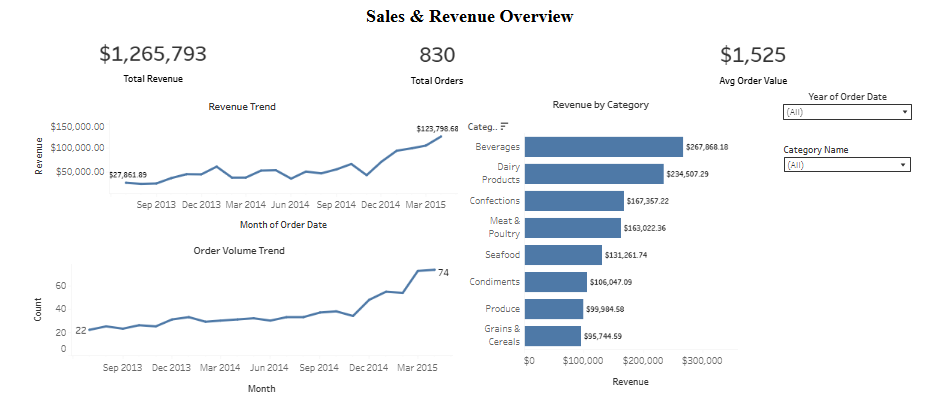

The page's visual inventory and layout, read from the dashboard file:
{"tool":"tableau","page":{"name":"Page 1","canvas":[1000,1000],"units":"permille","ordinal":2},"visuals":[{"type":"text","box":[7,10.8,986,72.3]},{"type":"worksheet","title":"Sheet 5","mark":"Text","box":[7,83,322.2,94.1]},{"type":"worksheet","title":"Sheet 7","mark":"Text","box":[329.2,83,342.4,94.1]},{"type":"worksheet","title":"Sheet 6","mark":"Text","box":[671.6,83,321.4,94.1]},{"type":"filter","title":"Sheet 2","param":"[federated.0t04x5t1wbccgz1bu4hci1i13do6].[yr:orderDate:ok]","box":[840.1,180.1,142.1,134.4]},{"type":"worksheet","title":"Sheet 1","mark":"Bar","rows":["categoryName"],"cols":["Calculation_1402216471646209"],"box":[493.8,184.1,328.6,547]},{"type":"worksheet","title":"Sheet 2","mark":"Automatic","rows":["Calculation_1402216471646209"],"cols":["orderDate"],"box":[17.8,188.2,468.9,251.3]},{"type":"filter","title":"Sheet 1","param":"[federated.0t04x5t1wbccgz1bu4hci1i13do6].[none:categoryName:nk]","box":[841.9,349.5,139.4,262.1]},{"type":"worksheet","title":"Sheet 3","mark":"Automatic","rows":["orderID (orders)"],"cols":["orderDate"],"box":[16.9,446.2,464.5,286.3]}]}

Visuals, with their boxes on the dashboard's canvas, which has no fixed pixel size, in thousandths of its width and height (x1, y1, x2, y2). These are canvas units, not pixel positions in the 952x402 screenshot, which may show the page scaled, cropped or inside an application window:
text: bbox(7, 11, 993, 83)
"Sheet 5" worksheet (Text marks): bbox(7, 83, 329, 177)
"Sheet 7" worksheet (Text marks): bbox(329, 83, 672, 177)
"Sheet 6" worksheet (Text marks): bbox(672, 83, 993, 177)
"Sheet 2" filter: bbox(840, 180, 982, 314)
"Sheet 1" worksheet (Bar marks): bbox(494, 184, 822, 731)
"Sheet 2" worksheet: bbox(18, 188, 487, 440)
"Sheet 1" filter: bbox(842, 350, 981, 612)
"Sheet 3" worksheet: bbox(17, 446, 481, 732)
